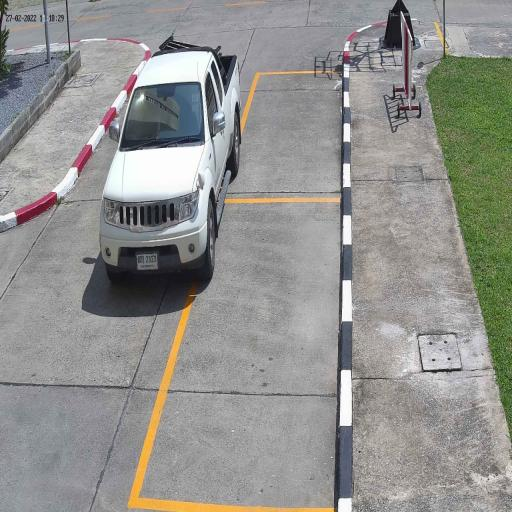car: (98, 43, 242, 288)
